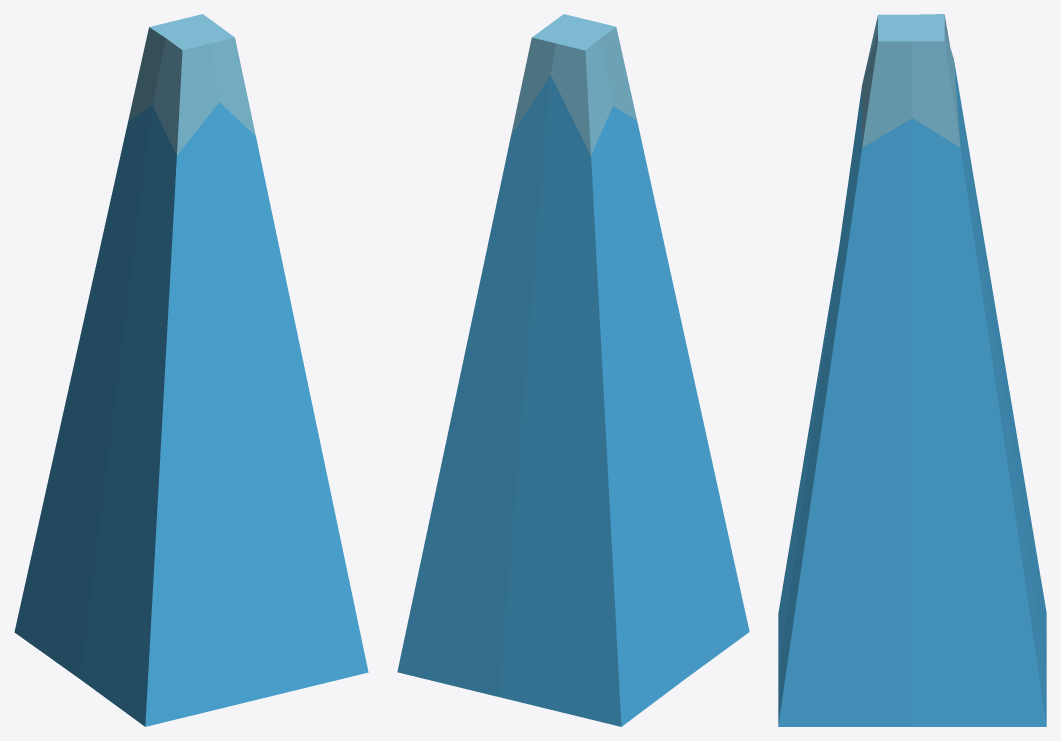
File: dagdir.fbx
3 renders of one model, left to right at view 1: azimuth 30°, elevation 25°; view 2: azimuth 150°, elevation 25°; view 3: azimuth 270°, elevation 25°, orthographic. The views are drawn at different scales.
Visible parts, largest first — view 1: Cube.003; view 2: Cube.003; view 3: Cube.003.
Boxes of the visible parts, x1,y1,x2,y2 form: Cube.003: (14, 14, 368, 726); Cube.003: (397, 14, 749, 726); Cube.003: (778, 14, 1046, 726).
Size of the model in its own units: 835 by 2206 by 835.
